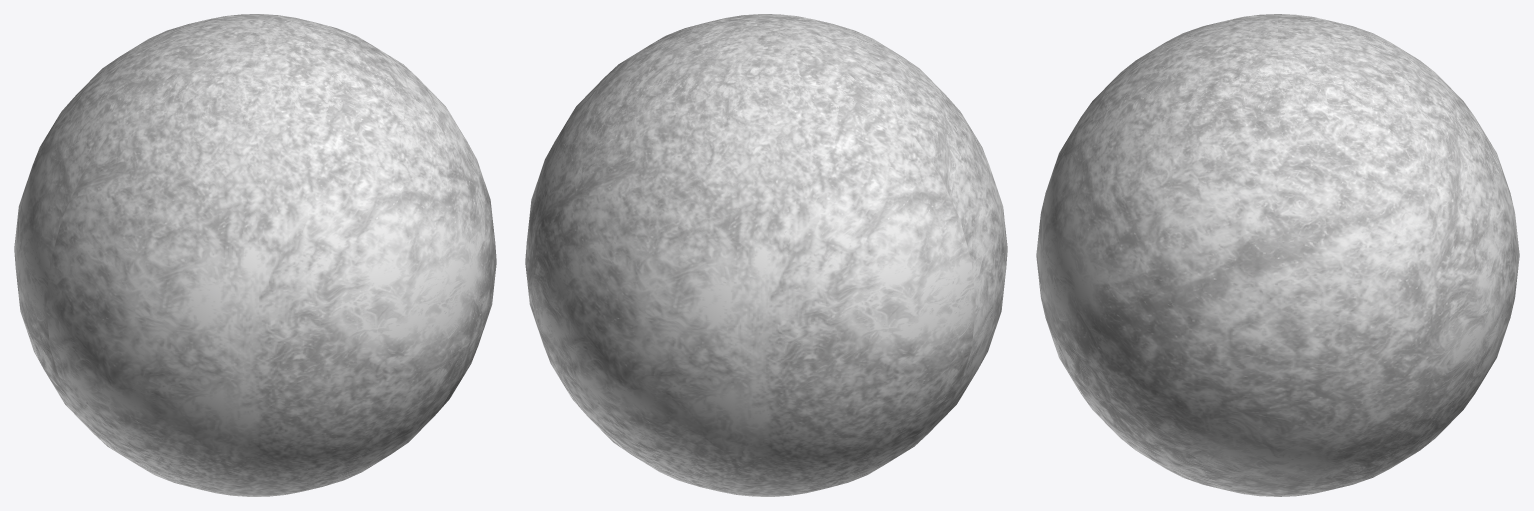
The model's file is white_dwarf.glb.
3 renders of one model, left to right at view 1: azimuth 30°, elevation 25°; view 2: azimuth 150°, elevation 25°; view 3: azimuth 270°, elevation 25°, orthographic.
Visible parts, largest first — view 1: Object_3; view 2: Object_3; view 3: Object_3.
Boxes of the visible parts, bbox=[...] form: Object_3: bbox=[14, 14, 496, 496]; Object_3: bbox=[525, 14, 1007, 496]; Object_3: bbox=[1036, 14, 1519, 496].
Bounding box in the file's own units: 45.41 × 45.41 × 45.41.
Materials: 2 (1 with a texture image).
